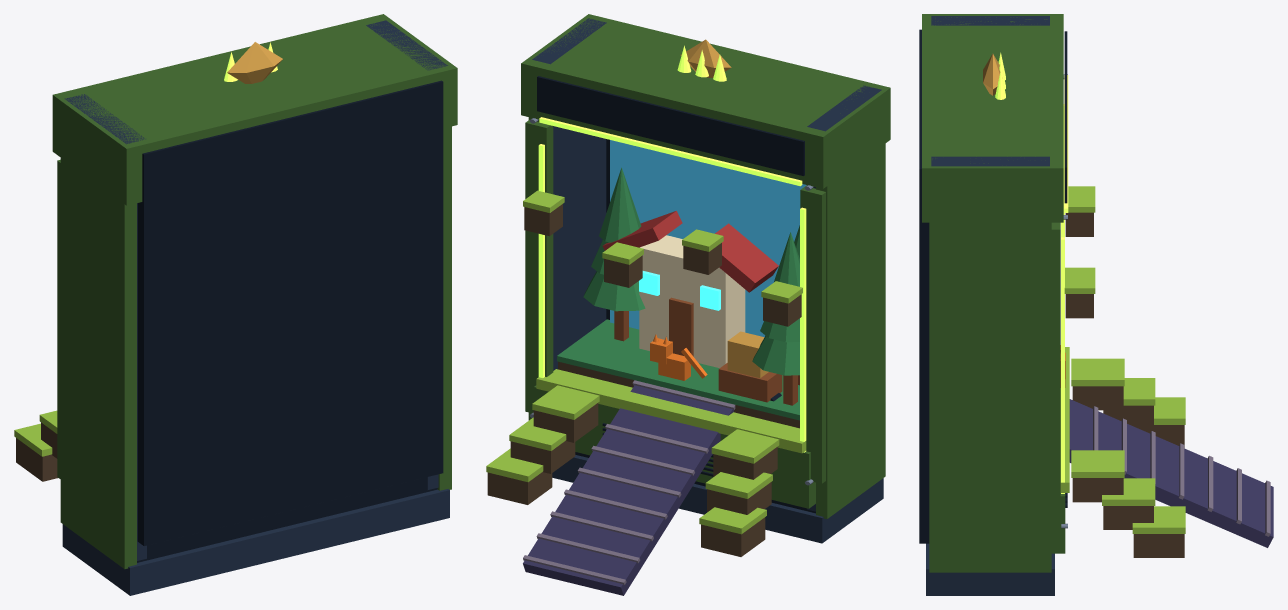
Rendered from syezzhaem.glb.
3 renders of one model, left to right at view 1: azimuth 30°, elevation 25°; view 2: azimuth 150°, elevation 25°; view 3: azimuth 270°, elevation 25°, orthographic. The views are drawn at different scales.
Visible parts, largest first — view 1: back, colored_side (×2), hood, base, plinth, side (×2), crown, front_rail, outer_soil, outer_grass; view 2: hood, colored_side, entry_bridge, world_backdrop, side (×2), front_rail (×2), marquee, outer_soil (×6), house, outer_grass (×6), tree (×5), lawn (+21 smaller); view 3: colored_side, hood, entry_bridge, outer_grass (×6), outer_soil (×6), back, base, front_rail, side (×2), light_rail, screen_sill, floating_block_3 (+6 smaller).
Part boxes in pixels (x1,y1,x2,y2): back: [137, 80, 443, 545]; colored_side (×2): [60, 126, 451, 569]; hood: [52, 14, 457, 205]; base: [62, 489, 449, 595]; plinth: [137, 477, 437, 562]; side (×2): [64, 20, 447, 560]; crown: [227, 42, 282, 83]; front_rail: [57, 159, 60, 478]; outer_soil: [16, 438, 57, 481]; outer_grass: [14, 423, 52, 456]; hood: [521, 14, 890, 188]; colored_side: [816, 143, 885, 518]; entry_bridge: [523, 385, 733, 595]; world_backdrop: [610, 140, 806, 337]; side (×2): [532, 18, 881, 511]; front_rail (×2): [525, 119, 825, 483]; marquee: [537, 76, 804, 175]; outer_soil (×6): [487, 403, 777, 556]; house: [639, 235, 745, 368]; outer_grass (×6): [486, 385, 779, 534]; tree (×5): [583, 167, 799, 375]; lawn: [557, 319, 799, 420]; colored_side: [929, 222, 1051, 572]; hood: [922, 14, 1063, 222]; entry_bridge: [1069, 399, 1273, 547]; outer_grass (×6): [1071, 358, 1185, 533]; outer_soil (×6): [1072, 386, 1184, 557]; back: [919, 29, 929, 543]; base: [926, 543, 1054, 595]; front_rail: [1051, 222, 1060, 531]; side (×2): [931, 16, 1049, 166]; light_rail: [1061, 237, 1064, 493]; screen_sill: [1060, 347, 1069, 492]; floating_block_3: [1065, 294, 1093, 318].
Size of the model in its own units: 3.23 by 4.58 by 3.13.
